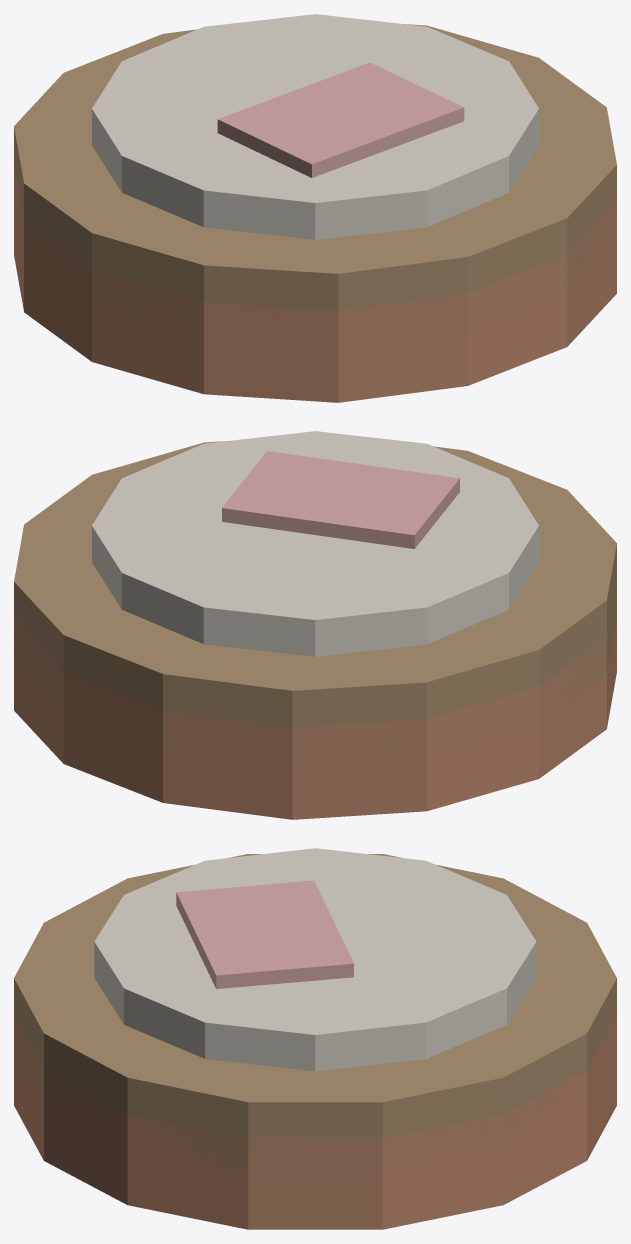
File: pets_cama.glb
3 views of the same model, one above another, from view 1: azimuth 30°, elevation 25°; view 2: azimuth 150°, elevation 25°; view 3: azimuth 270°, elevation 25° (orthographic).
Visible parts, largest first — view 1: PETS_CAMA_v01; view 2: PETS_CAMA_v01; view 3: PETS_CAMA_v01.
Part boxes in pixels (bbox=[...]): PETS_CAMA_v01: bbox=[14, 14, 616, 402]; PETS_CAMA_v01: bbox=[14, 431, 616, 819]; PETS_CAMA_v01: bbox=[14, 848, 616, 1229].
Bounding box in the file's own units: 0.585 × 0.195 × 0.6.
